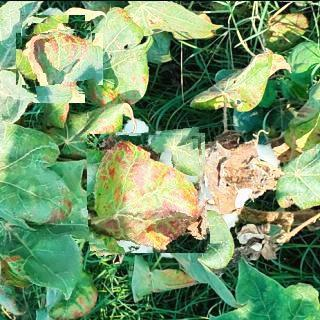blight: (87, 129, 208, 252), (22, 22, 96, 94)
